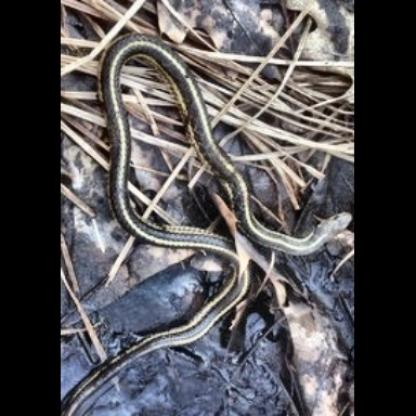Snake: (83, 24, 351, 403)
